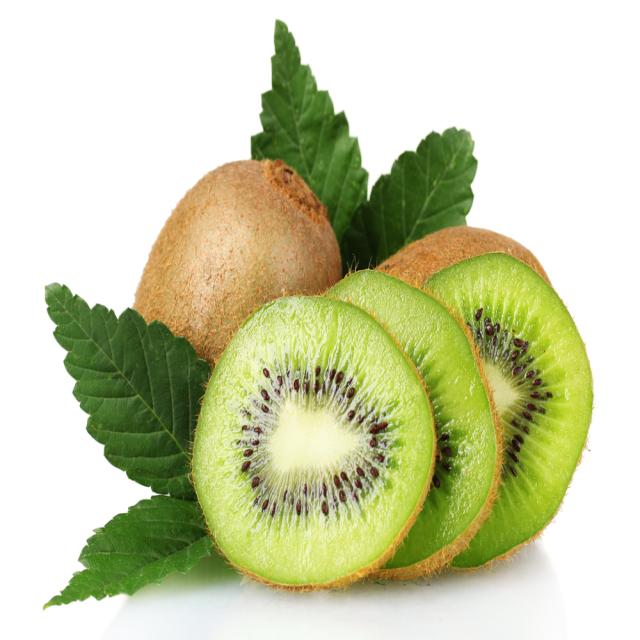Chilli Pepper: (366, 230, 589, 589), (188, 290, 442, 589), (116, 153, 350, 466)
